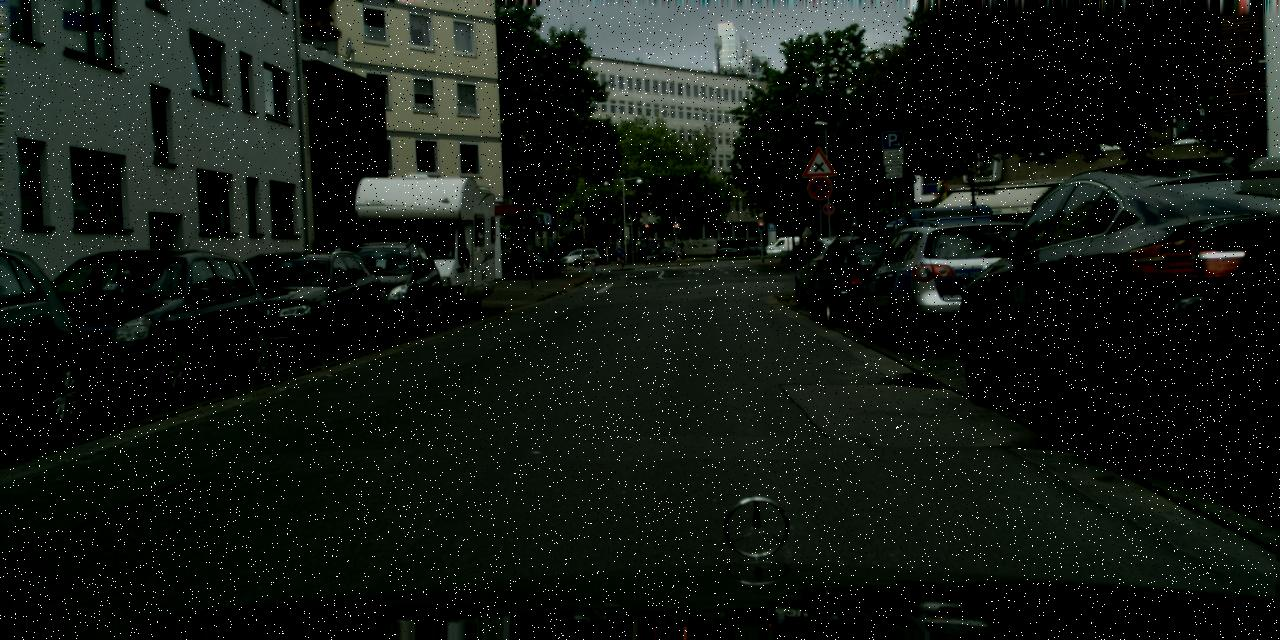ped: (550, 242, 562, 272)
